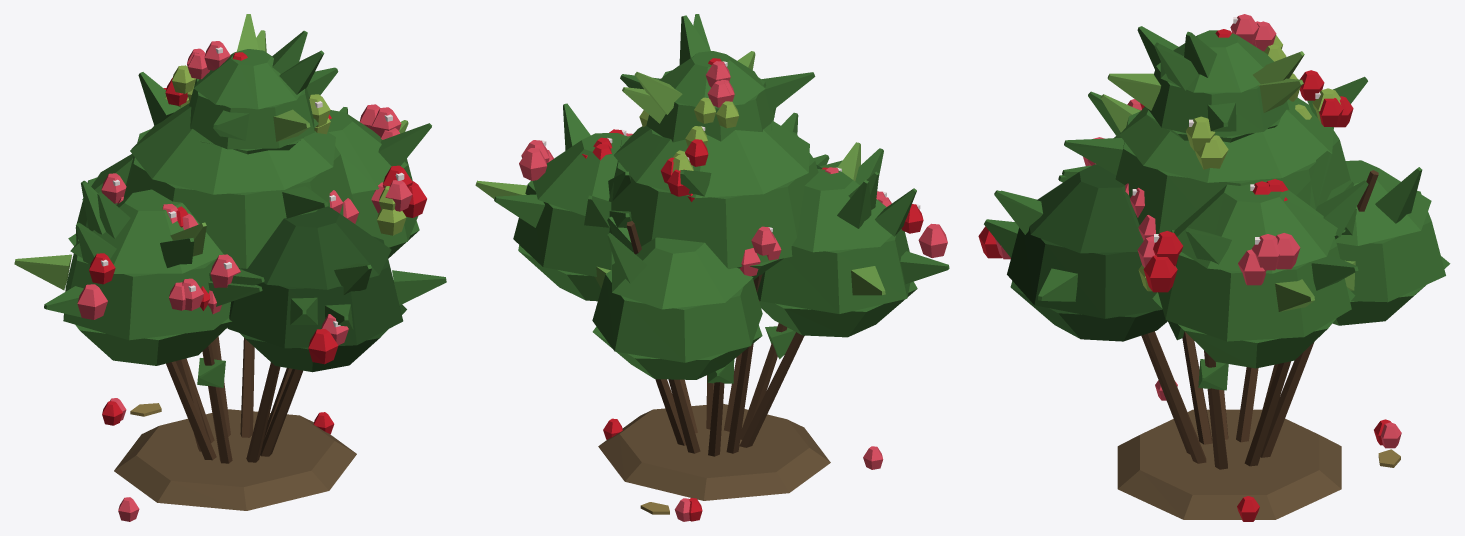
The model's file is berry_bush_4.obj.
3 views of the same model, side by side, from view 1: azimuth 30°, elevation 25°; view 2: azimuth 150°, elevation 25°; view 3: azimuth 270°, elevation 25° (orthographic). The views are drawn at different scales.
Parts seen in each view (by area): view 1: Leaves, Leaf, Mound, Cane, Berry.299, Berry.288, Cane.Leaf, Berry.308, Berry.326, Berry.298, Berry.301, Berry.284 (+4 smaller); view 2: Leaves, Leaf, Mound, Cane, Cane.Leaf, Berry.299, Berry.285, Berry.303; view 3: Leaves, Leaf, Mound, Cane, Berry.302, Cane.Leaf, Berry.284, Berry.307, Berry.285, Berry.286, Berry.306, Berry.323 (+3 smaller).
Part boxes in pixels (bbox=[...]): Leaves: bbox=[63, 49, 419, 372]; Leaf: bbox=[14, 14, 446, 330]; Mound: bbox=[114, 409, 356, 510]; Cane: bbox=[166, 336, 302, 463]; Berry.299: bbox=[77, 284, 107, 319]; Berry.288: bbox=[308, 329, 338, 364]; Cane.Leaf: bbox=[197, 358, 225, 387]; Berry.308: bbox=[210, 254, 240, 287]; Berry.326: bbox=[377, 209, 406, 235]; Berry.298: bbox=[89, 253, 115, 284]; Berry.301: bbox=[385, 180, 412, 211]; Berry.284: bbox=[372, 107, 401, 136]; Leaves: bbox=[513, 51, 917, 379]; Leaf: bbox=[475, 14, 949, 295]; Mound: bbox=[598, 404, 830, 500]; Cane: bbox=[626, 221, 804, 456]; Cane.Leaf: bbox=[707, 326, 795, 383]; Berry.299: bbox=[918, 223, 947, 257]; Berry.285: bbox=[519, 148, 547, 180]; Berry.303: bbox=[751, 226, 775, 255]; Leaves: bbox=[1007, 30, 1450, 368]; Leaf: bbox=[984, 26, 1422, 311]; Mound: bbox=[1117, 409, 1341, 519]; Cane: bbox=[1141, 170, 1378, 469]; Berry.302: bbox=[1143, 255, 1177, 292]; Cane.Leaf: bbox=[1168, 321, 1228, 390]; Berry.284: bbox=[1252, 234, 1280, 270]; Berry.307: bbox=[1195, 135, 1228, 169]; Berry.285: bbox=[1276, 233, 1300, 269]; Berry.286: bbox=[1238, 249, 1266, 285]; Berry.306: bbox=[1186, 116, 1215, 151]; Berry.323: bbox=[1153, 231, 1183, 265].
Size of the model in its own units: 2.18 by 2.11 by 1.95.
